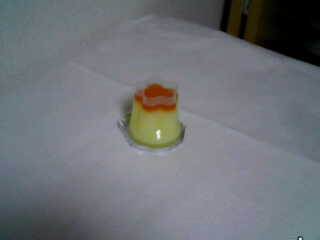001_classes: (115, 75, 200, 164)
